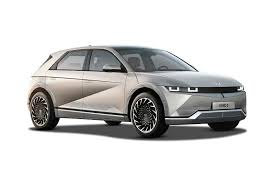Honda Ioniq: (23, 39, 255, 148)
